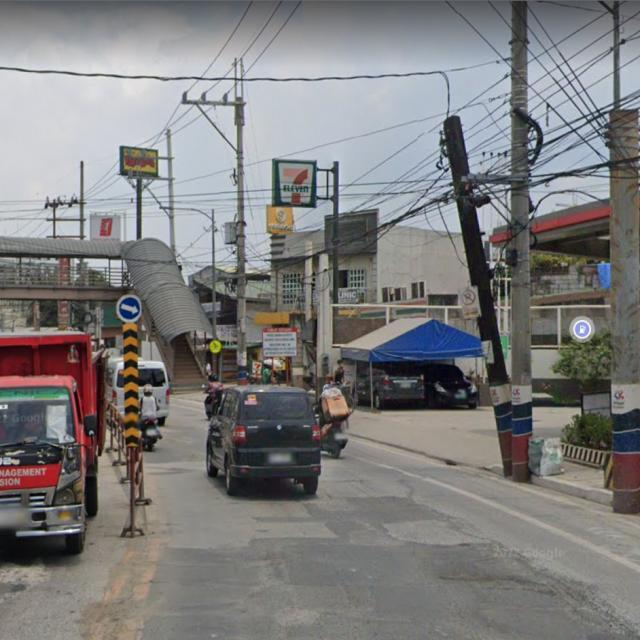bike lane: (206, 337, 225, 355)
keep right: (117, 293, 146, 323)
